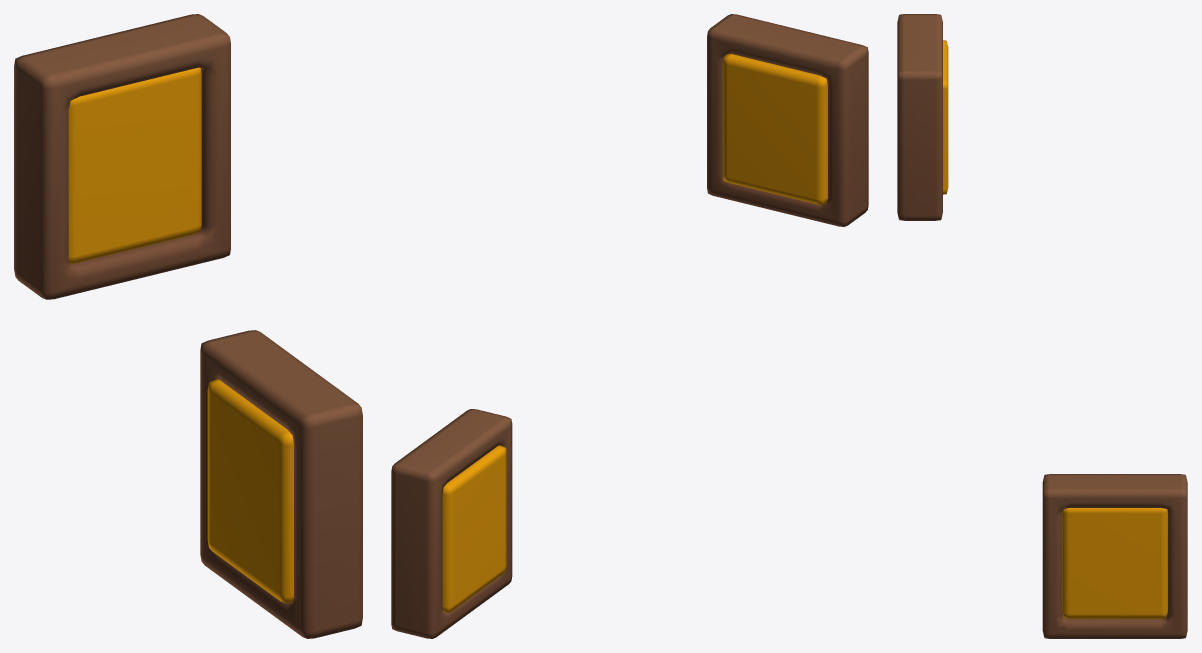
Rendered from SM_Clay_Window_06.fbx.
The picture shows the model from 3 angles, left to right: view 1: azimuth 30°, elevation 25°; view 2: azimuth 150°, elevation 25°; view 3: azimuth 270°, elevation 25°; orthographic projection. The views are drawn at different scales.
Visible parts, largest first — view 1: SM_Clay_Window_06; view 2: SM_Clay_Window_06; view 3: SM_Clay_Window_06.
Part boxes in pixels (box(x1,y1,x2,y2)): SM_Clay_Window_06: box(14, 14, 362, 638); SM_Clay_Window_06: box(391, 14, 868, 638); SM_Clay_Window_06: box(897, 14, 1187, 638).
Size of the model in its own units: 0.6695 by 1.09 by 0.5882.
Materials: 2 (1 with a texture image).
